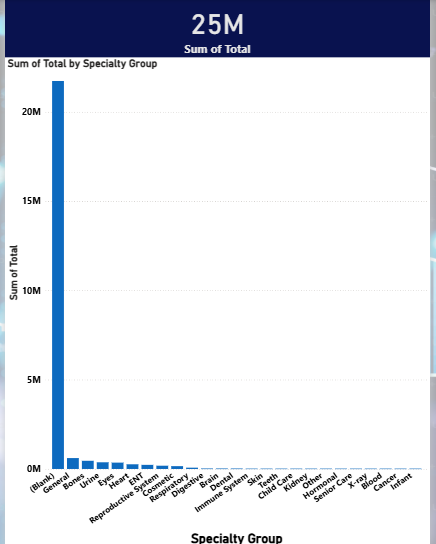

What the dashboard file says about the page in this screenshot:
{"tool":"powerbi","page":{"name":"Drilldown","canvas":[816,1056],"ordinal":2},"visuals":[{"type":"columnChart","fields":{"Category":["Mapping_Specialty.Specialty Group"],"Y":["Sum(All_Data.Total)"]},"box":[0,112,816,944],"z":0},{"type":"card","fields":{"Values":["Sum(All_Data.Total)"]},"box":[0,0,816,112],"z":1000}]}

Visuals, with their boxes on the page's 816x1056 design canvas (x1, y1, x2, y2). These are canvas units, not pixel positions in the 436x544 screenshot, which may show the page scaled, cropped or inside an application window:
columnChart - Mapping_Specialty.Specialty Group x Sum(All_Data.Total): BBox(0, 112, 816, 1056)
card - Sum(All_Data.Total): BBox(0, 0, 816, 112)
